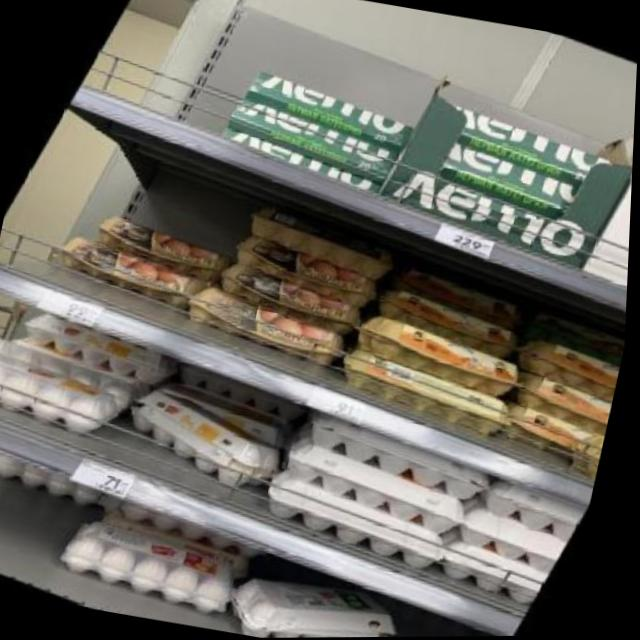Egg: (49, 503, 263, 632), (341, 301, 547, 411), (115, 381, 306, 490), (175, 277, 363, 375), (219, 222, 398, 317), (12, 304, 191, 394), (47, 224, 217, 318), (365, 277, 535, 368), (0, 334, 138, 446), (206, 254, 375, 342), (81, 203, 242, 289), (505, 326, 628, 409), (505, 365, 620, 440), (566, 425, 610, 484), (609, 204, 633, 265), (615, 180, 634, 230)
